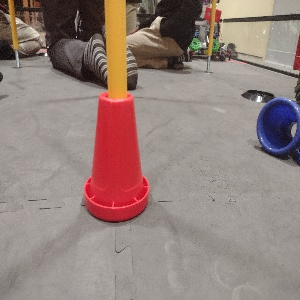Blue_1: (253, 91, 299, 160)
Red_1: (83, 86, 151, 223)
